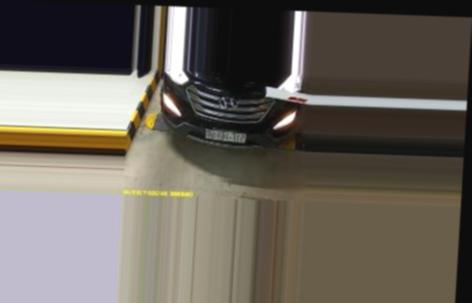License_Plate: (205, 127, 250, 144)
